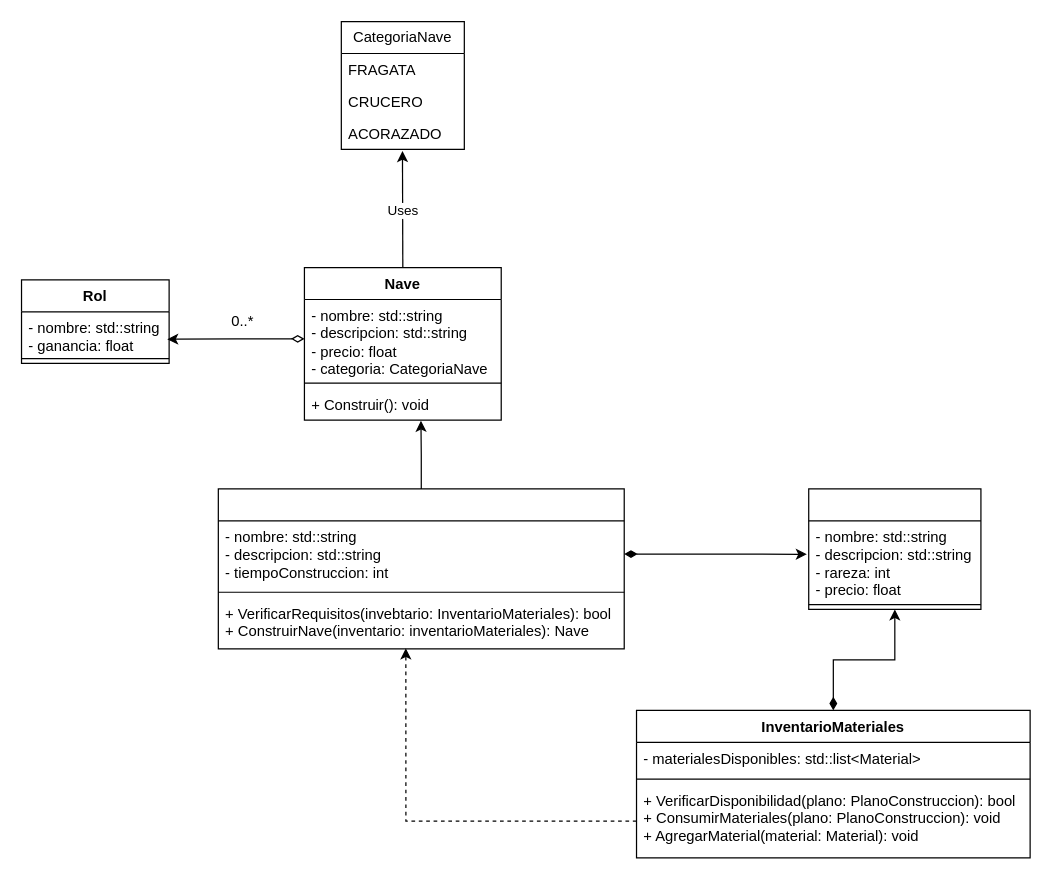
The diagram is 1052 pixels wide and 883 high, and some of its shapes have lost their labels. Each missing label, with the box of its shape:
Material: (807, 488, 981, 609)
PlanoConstruccion: (217, 488, 624, 649)
